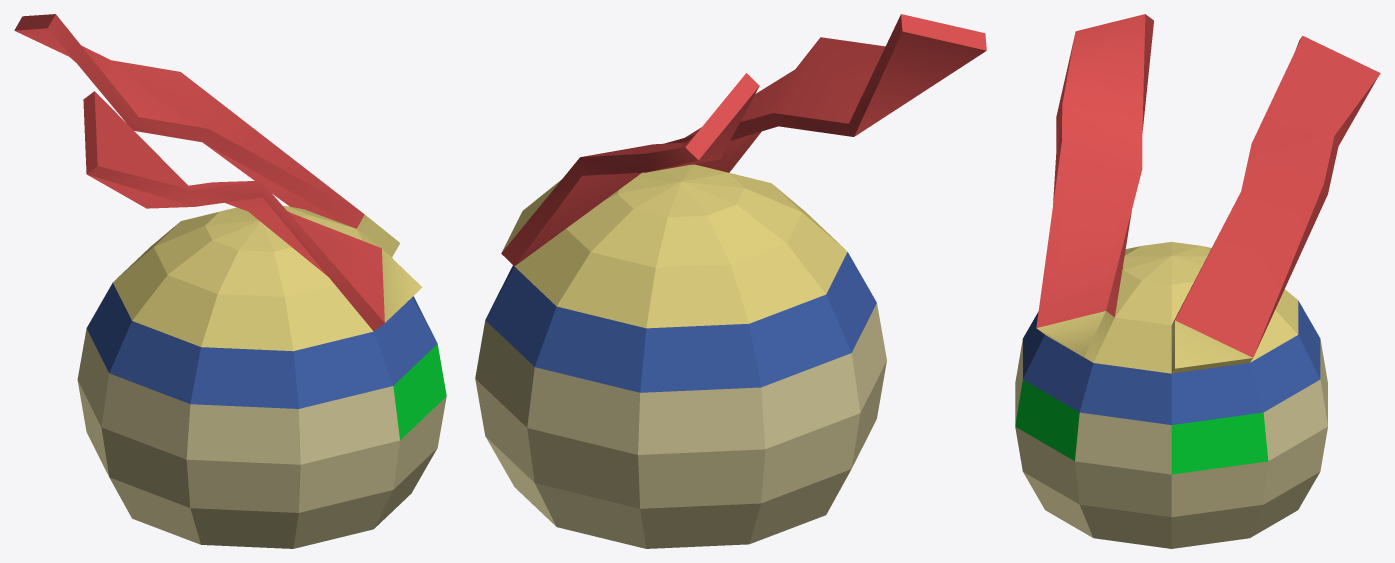
Rendered from RobotyChan.fbx.
3 views of the same model, side by side, from view 1: azimuth 30°, elevation 25°; view 2: azimuth 150°, elevation 25°; view 3: azimuth 270°, elevation 25° (orthographic). The views are drawn at different scales.
Visible parts, largest first — view 1: pSphere1; view 2: pSphere1; view 3: pSphere1.
Part boxes in pixels (x1,y1,x2,y2): pSphere1: [14, 14, 446, 548]; pSphere1: [475, 14, 986, 548]; pSphere1: [1015, 14, 1380, 548].
Bounding box in the file's own units: 11.99 × 13.41 × 11.11.
